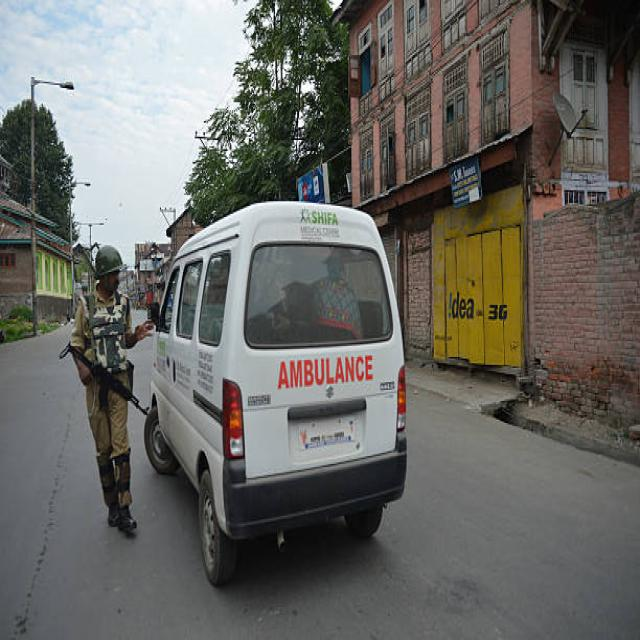ambulance: (274, 349, 384, 408)
